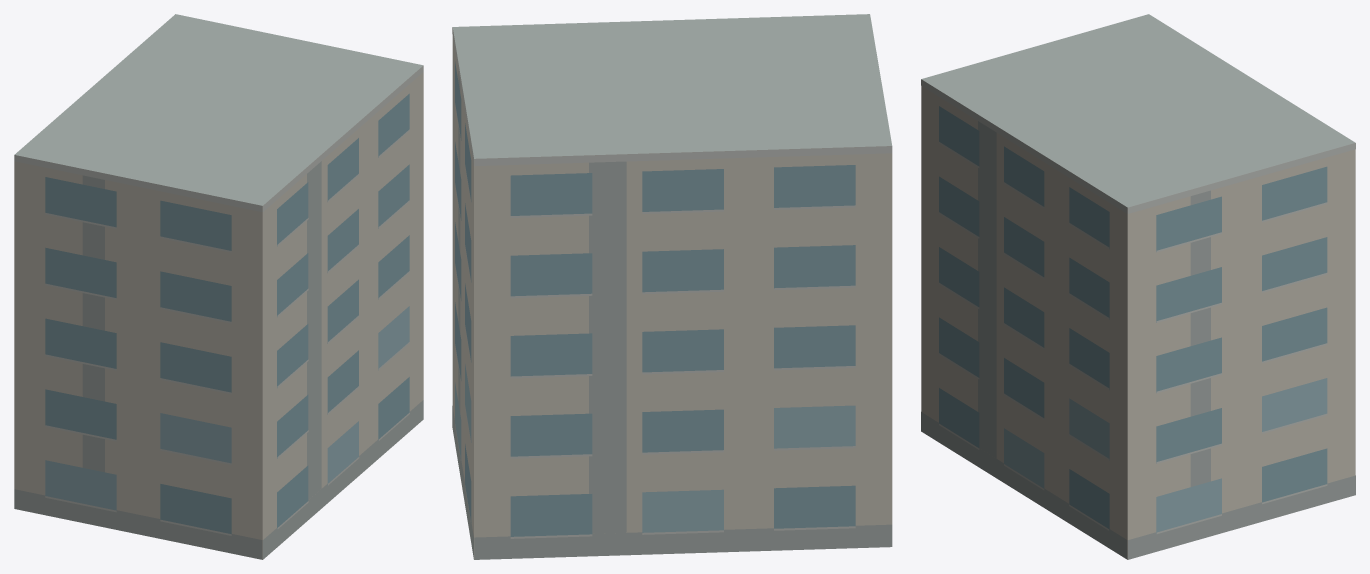
Rendered from survey-upis-32851224.glb.
The picture shows the model from 3 angles, left to right: view 1: azimuth 30°, elevation 25°; view 2: azimuth 150°, elevation 25°; view 3: azimuth 270°, elevation 25°; orthographic projection. The views are drawn at different scales.
Parts seen in each view (by area): view 1: survey-upis-32851224.tmp; view 2: survey-upis-32851224.tmp; view 3: survey-upis-32851224.tmp.
Boxes of the visible parts, left/top/right/bottom form: survey-upis-32851224.tmp: left=14, top=14, right=423, bottom=559; survey-upis-32851224.tmp: left=452, top=14, right=892, bottom=559; survey-upis-32851224.tmp: left=921, top=14, right=1355, bottom=559.
Size of the model in its own units: 15.68 by 13.3 by 14.88.
